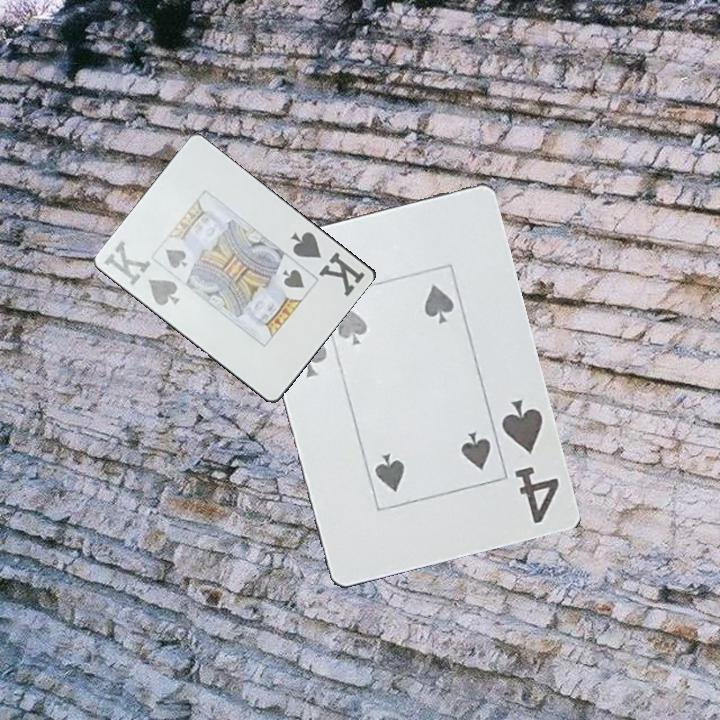4s: (498, 393, 563, 527)
Ks: (100, 236, 183, 309), (287, 228, 369, 300)
